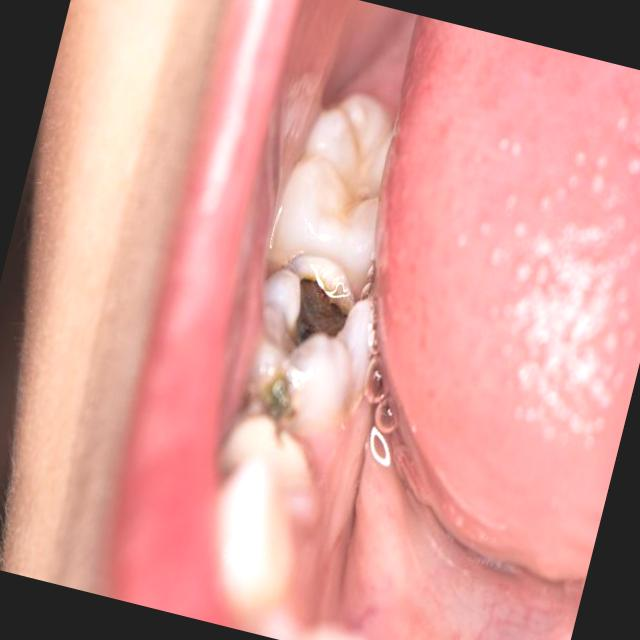caries: (254, 245, 384, 368), (231, 322, 354, 449)
